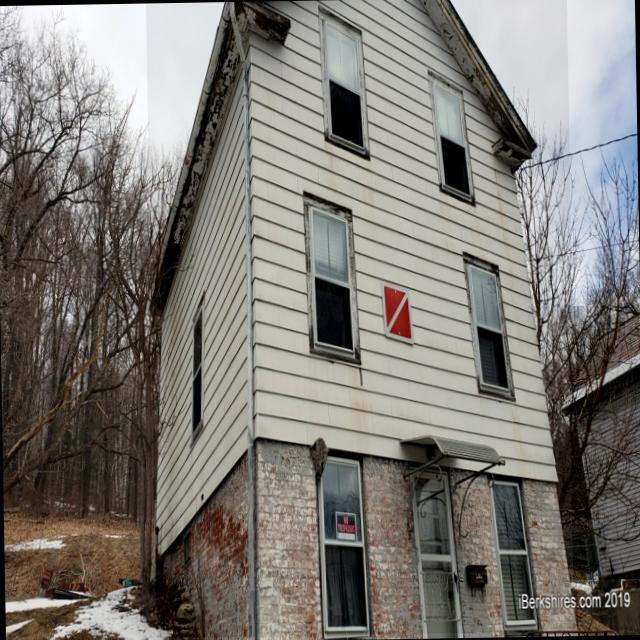House: (145, 0, 577, 638), (567, 305, 640, 580)
